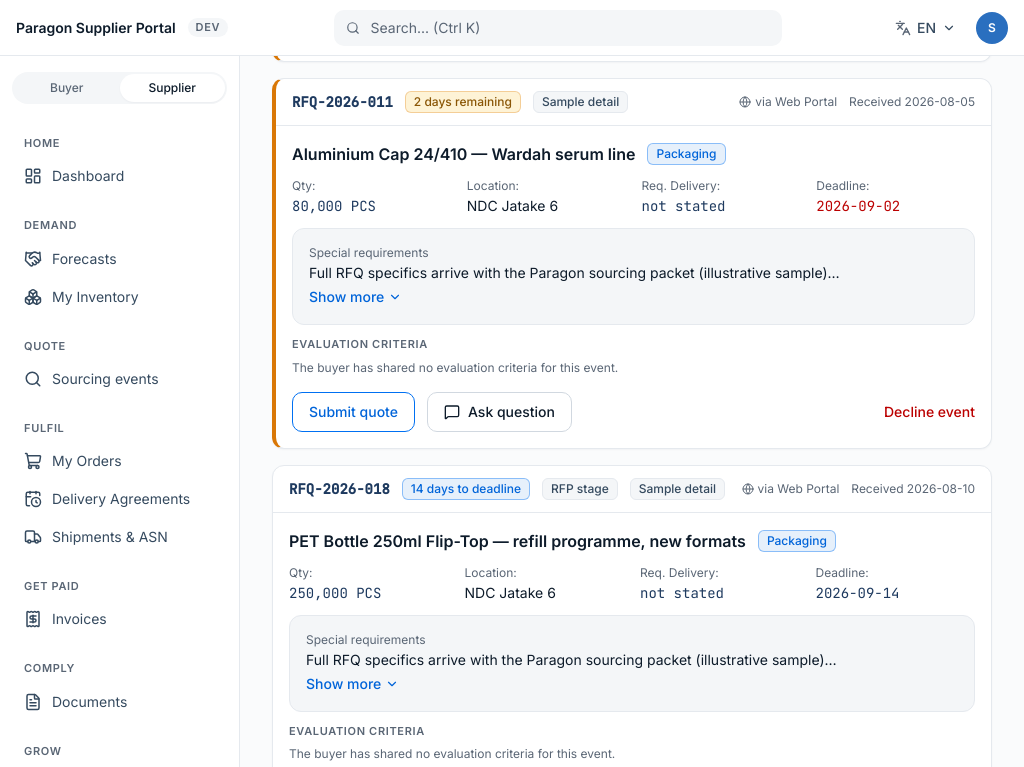
Test: 7 · the certificate step lists the supplier’s own documents › each reads the state it is in today — an expiring certificate is not ticked "on file"
(page scrolled)
Click the button "Submit quote". click: x=354, y=412
box: [292,392,415,432]
(page scrolled)
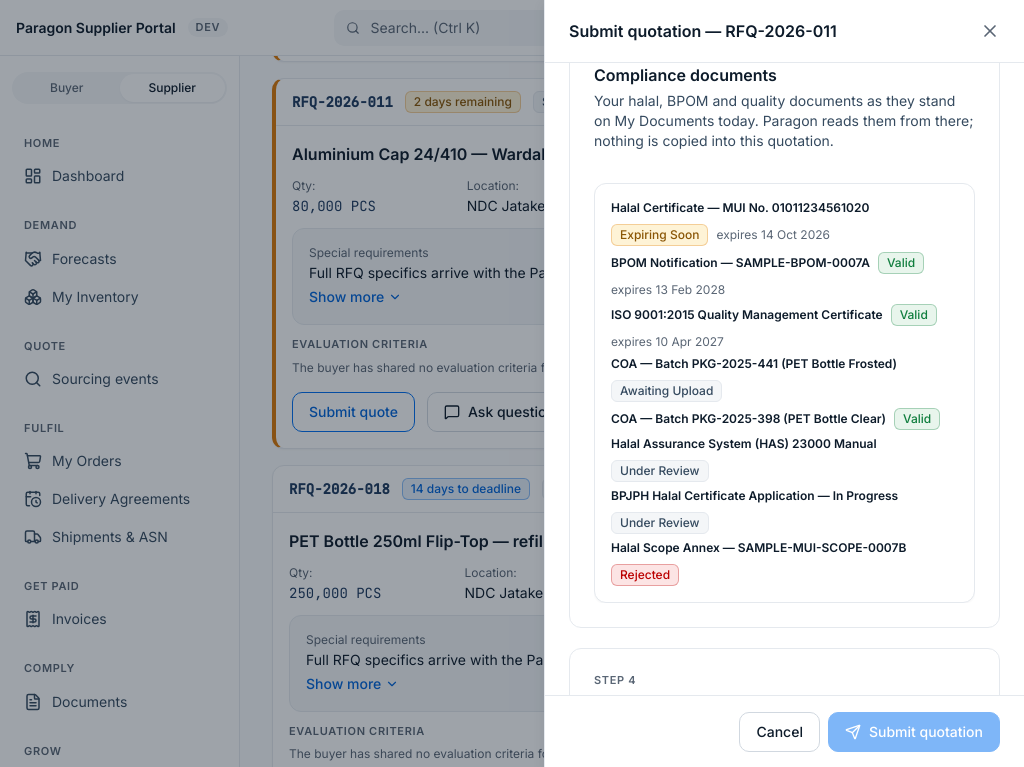
Expected: the element with test id "quote-certificates" is shown, [594,183,975,603]
Expected: the element with test id "quote-cert-doc-001" shows "Expiring Soon", [620,227,700,242]
Expected: the element with test id "quote-cert-doc-001" shows "expires 14 Oct 2026", [716,227,830,242]
